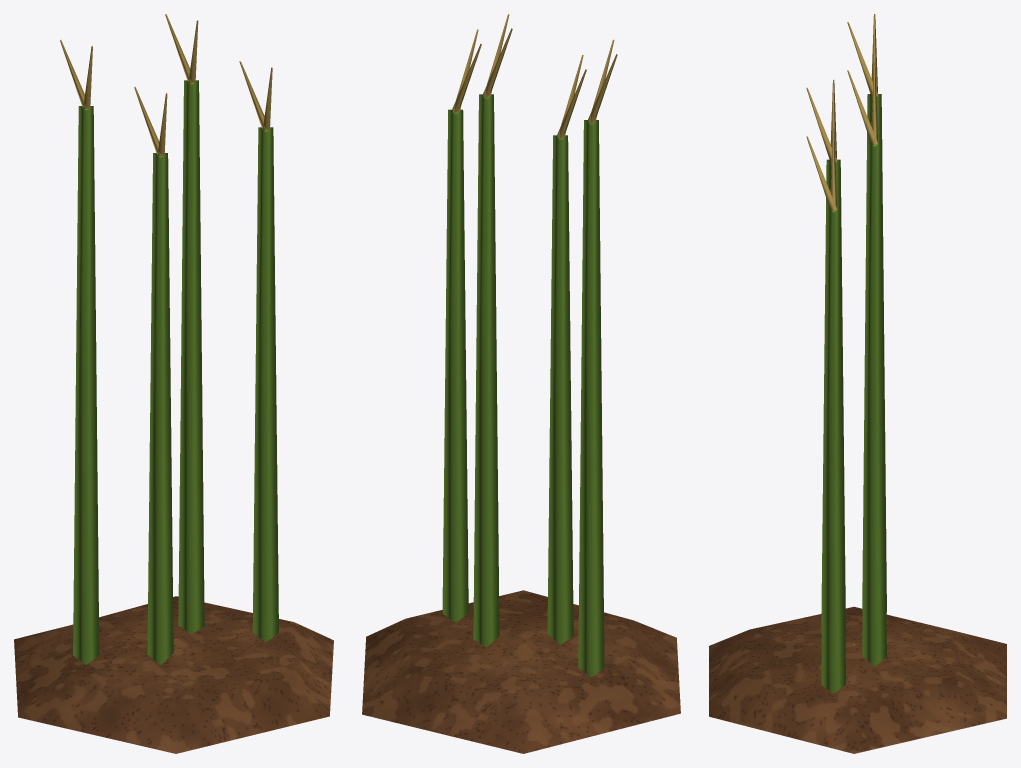
Rendered from plant-corn-4-far.glb.
3 views of the same model, side by side, from view 1: azimuth 30°, elevation 25°; view 2: azimuth 150°, elevation 25°; view 3: azimuth 270°, elevation 25° (orthographic). The views are drawn at different scales.
Parts seen in each view (by area): view 1: plant-corn-4-far; view 2: plant-corn-4-far; view 3: plant-corn-4-far.
Part boxes in pixels (bbox=[...]): plant-corn-4-far: bbox=[14, 14, 333, 753]; plant-corn-4-far: bbox=[362, 14, 680, 753]; plant-corn-4-far: bbox=[709, 14, 1006, 753].
Size of the model in its own units: 0.84 by 1.67 by 0.7275.
Materials: 2 (1 with a texture image).
